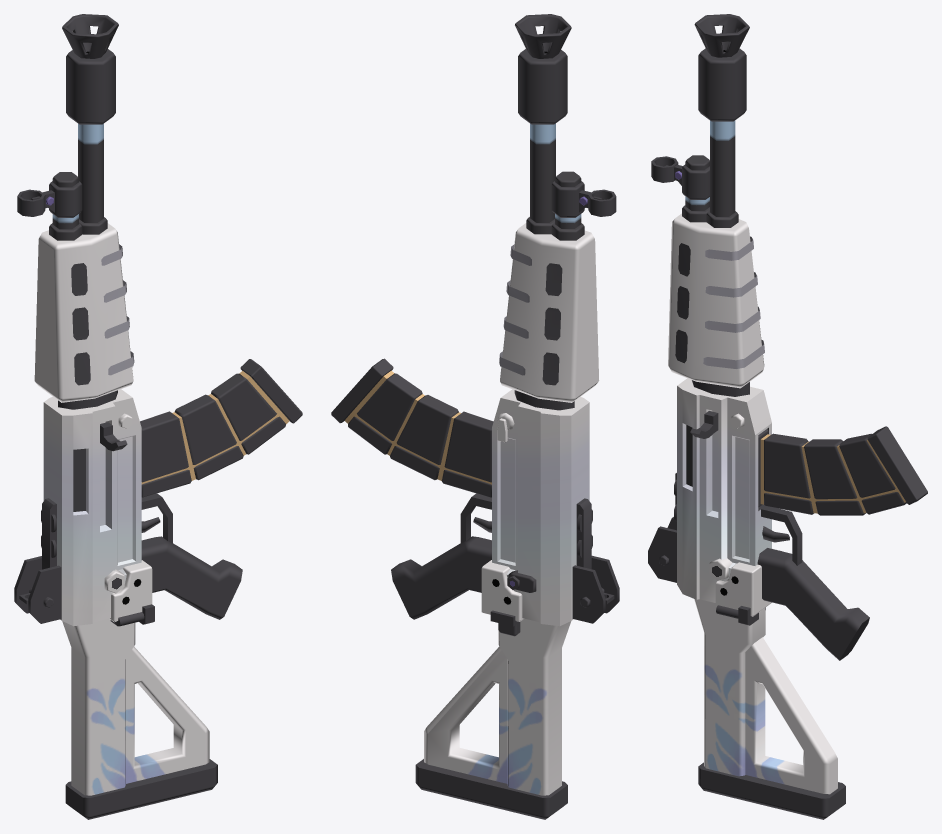
The model's file is Kokona_Weapon.fbx.
3 views of the same model, side by side, from view 1: azimuth 30°, elevation 25°; view 2: azimuth 150°, elevation 25°; view 3: azimuth 330°, elevation 25° (orthographic). The views are drawn at different scales.
Visible parts, largest first — view 1: CH0137_Weapon; view 2: CH0137_Weapon; view 3: CH0137_Weapon.
Part boxes in pixels (x1=…): CH0137_Weapon: x1=14, y1=14, x2=302, y2=819; CH0137_Weapon: x1=331, y1=14, x2=619, y2=819; CH0137_Weapon: x1=648, y1=14, x2=927, y2=819.
Bounding box in the file's own units: 0.2034 × 0.5511 × 0.0627.
1 material, 1 textured.
